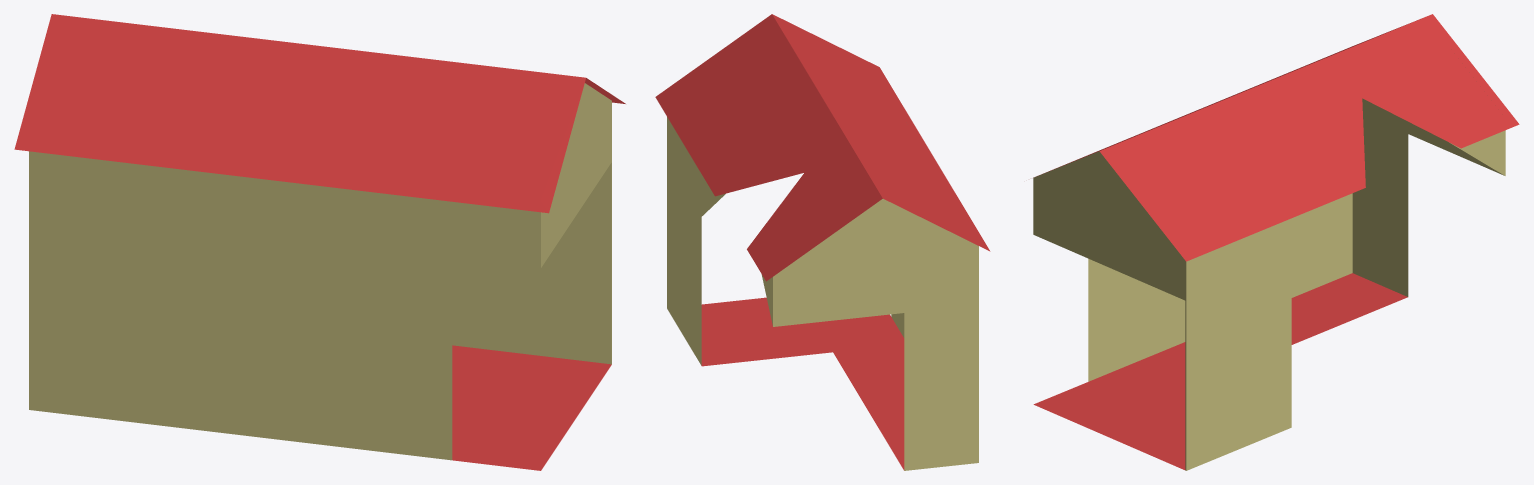
3 views of the same model, side by side, from view 1: azimuth 30°, elevation 25°; view 2: azimuth 150°, elevation 25°; view 3: azimuth 270°, elevation 25° (orthographic). The views are drawn at different scales.
Bounding box in the file's own units: 25.26 × 25.48 × 16.18.
